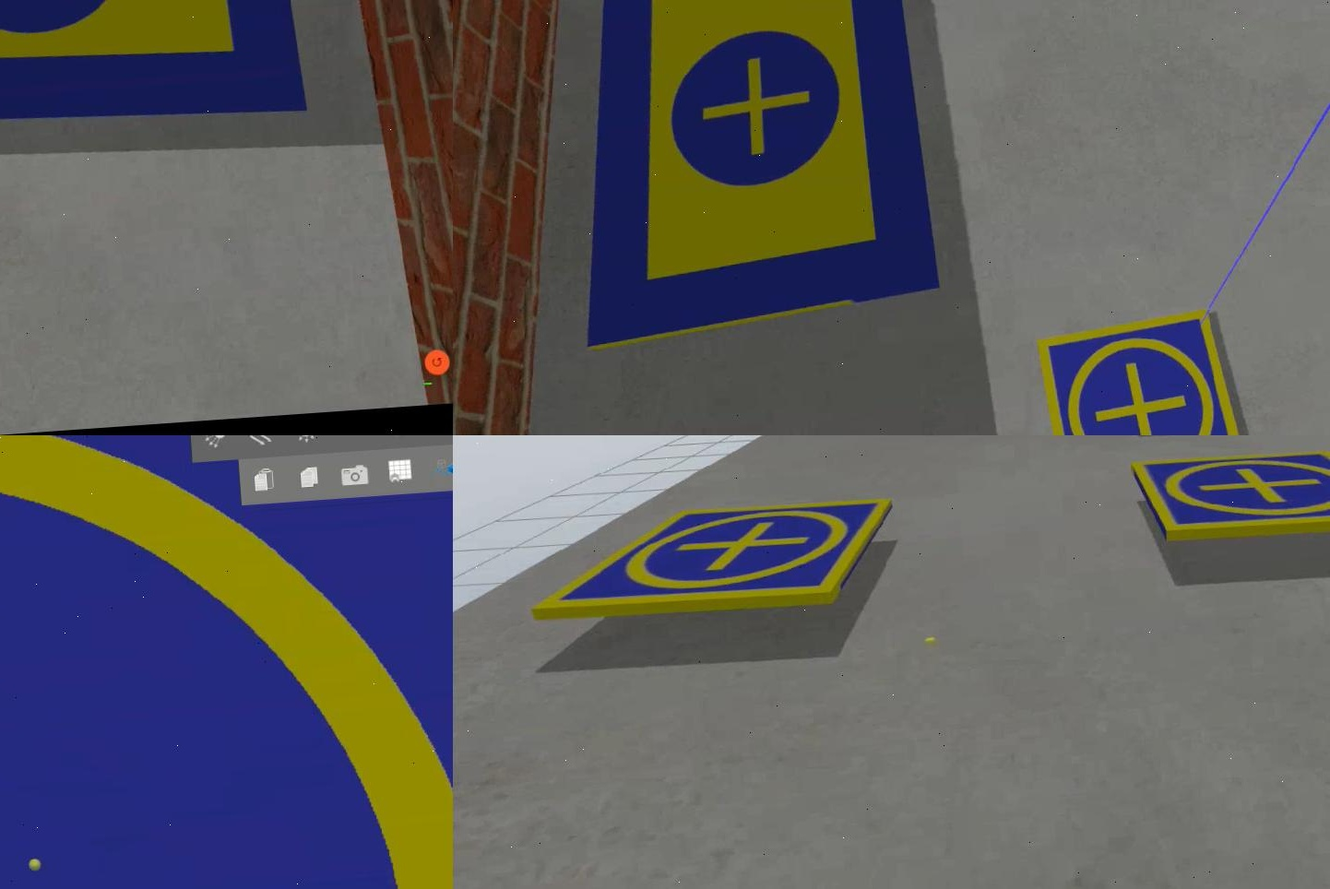large_base: (552, 1, 946, 352), (0, 1, 308, 148)
small_base: (0, 435, 452, 889), (523, 495, 899, 630), (1035, 304, 1254, 435), (1126, 441, 1328, 546)
